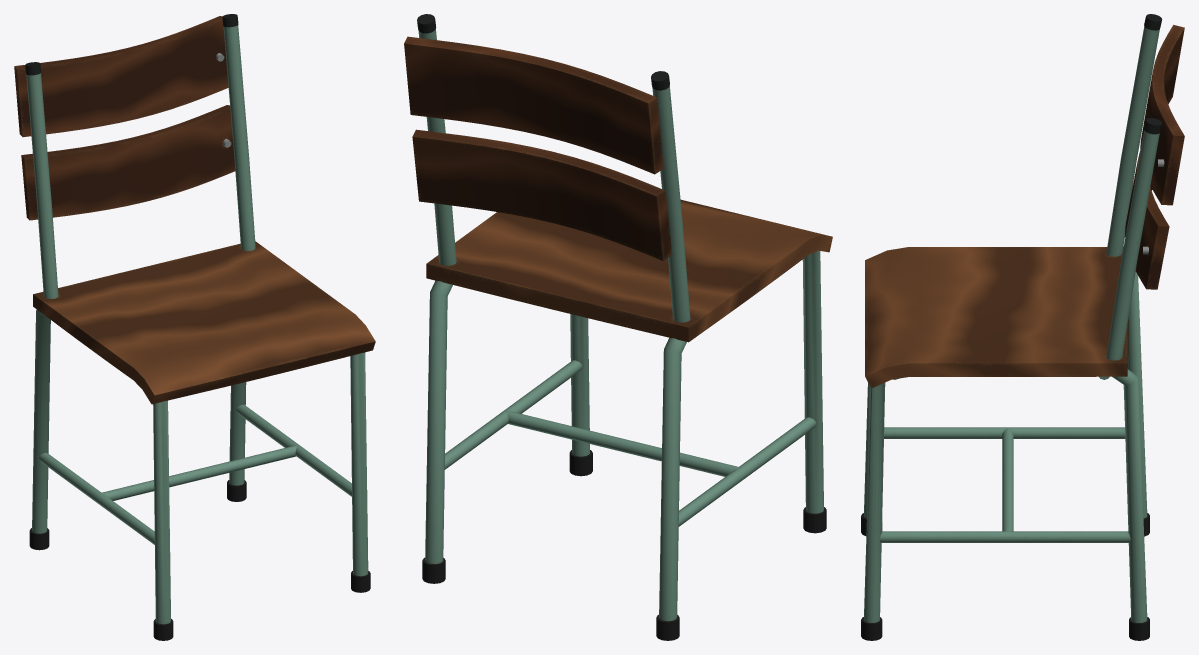
The model's file is CTCC_STAFF_NurseChair.fbx.
3 renders of one model, left to right at view 1: azimuth 30°, elevation 25°; view 2: azimuth 150°, elevation 25°; view 3: azimuth 270°, elevation 25°, orthographic. The views are drawn at different scales.
Visible parts, largest first — view 1: CTCC_STAFF_NurseChair_LOD0; view 2: CTCC_STAFF_NurseChair_LOD0; view 3: CTCC_STAFF_NurseChair_LOD0.
Boxes of the visible parts, x1=… form: CTCC_STAFF_NurseChair_LOD0: x1=14, y1=14, x2=375, y2=640; CTCC_STAFF_NurseChair_LOD0: x1=404, y1=14, x2=832, y2=640; CTCC_STAFF_NurseChair_LOD0: x1=861, y1=14, x2=1184, y2=640.
Size of what is drawn, in the model's own units: 0.4182 by 0.8575 by 0.4873.
